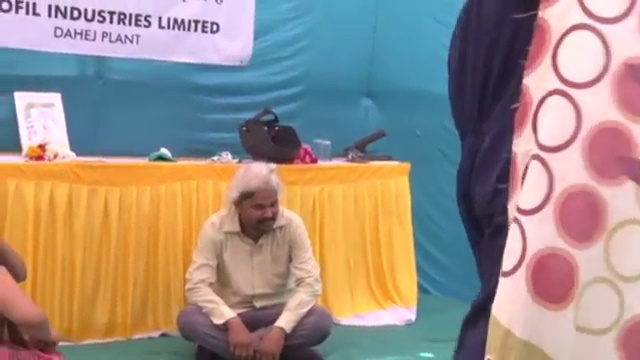helmet_off: (231, 168, 280, 240)
person: (446, 1, 544, 360), (175, 159, 333, 360)
